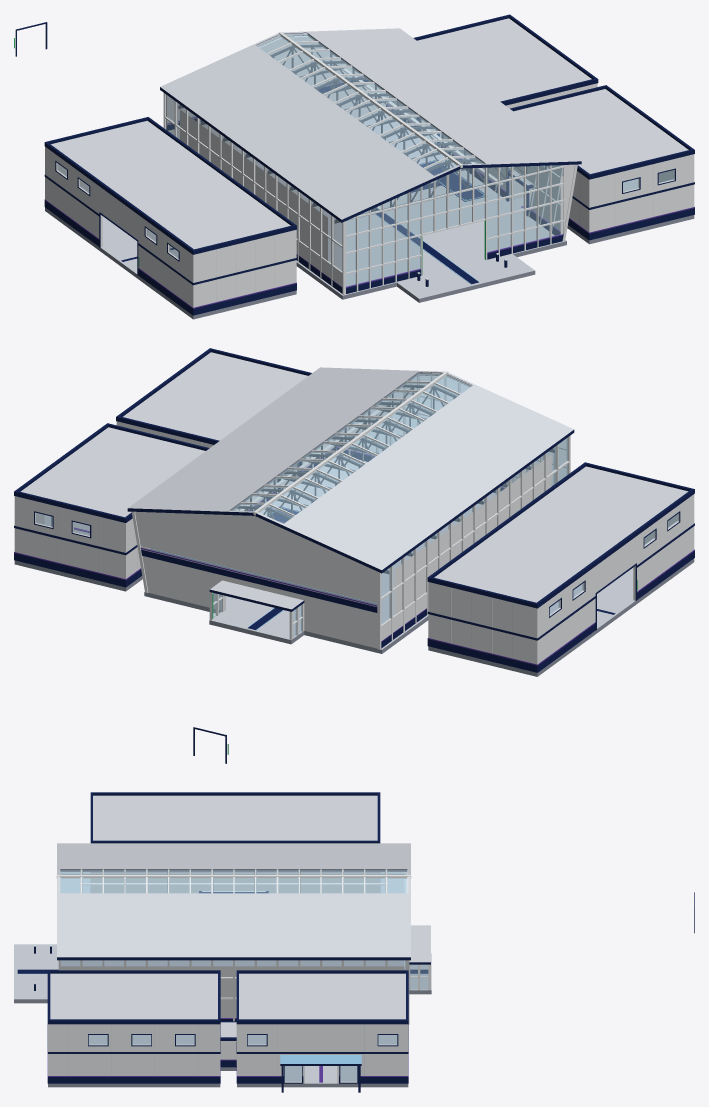
The model's file is LLASO_Facility_MIRRORED.obj.
The picture shows the model from 3 angles, top to bottom: view 1: azimuth 30°, elevation 25°; view 2: azimuth 150°, elevation 25°; view 3: azimuth 270°, elevation 25°; orthographic projection. The views are drawn at different scales.
Visible parts, largest first — view 1: LLASO_Facility, LLASO_Room_RobotHangar, LLASO_Room_IDK, LLASO_Room_EntranceLobby; view 2: LLASO_Facility, LLASO_Room_RobotHangar, LLASO_Room_EntranceLobby, LLASO_Room_IDK; view 3: LLASO_Facility, LLASO_Room_IDK, LLASO_Room_EntranceLobby, LLASO_Room_RobotHangar, LLASO_Link_IDK_Lobby.
Part boxes in pixels (<box>): LLASO_Facility: <box>160,28,581,302</box>; LLASO_Room_RobotHangar: <box>44,117,296,319</box>; LLASO_Room_IDK: <box>510,85,694,244</box>; LLASO_Room_EntranceLobby: <box>14,14,598,108</box>; LLASO_Facility: <box>127,367,574,653</box>; LLASO_Room_RobotHangar: <box>427,462,694,676</box>; LLASO_Room_EntranceLobby: <box>14,423,228,763</box>; LLASO_Room_IDK: <box>116,348,311,447</box>; LLASO_Facility: <box>14,843,431,1024</box>; LLASO_Room_IDK: <box>47,970,220,1087</box>; LLASO_Room_EntranceLobby: <box>236,892,694,1092</box>; LLASO_Room_RobotHangar: <box>90,792,380,843</box>; LLASO_Link_IDK_Lobby: <box>220,1021,236,1070</box>.
Size of the model in its own units: 77.4 by 15.7 by 93.8.
